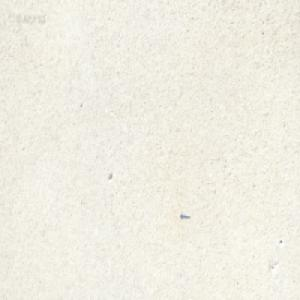Nail: (179, 211, 190, 219)
